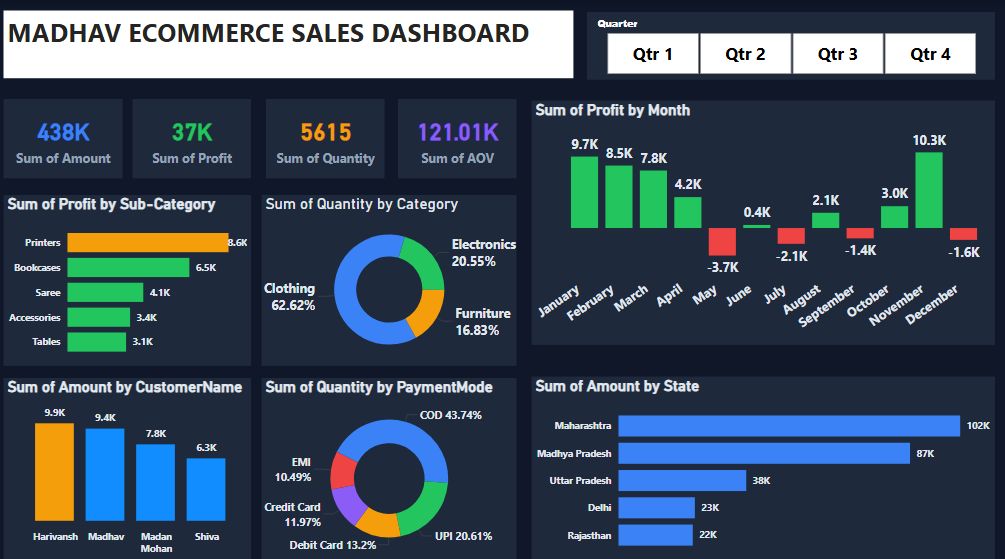

What the dashboard file says about the page in this screenshot:
{"tool":"powerbi","page":{"name":"Page 1","canvas":[1280,720],"ordinal":0},"visuals":[{"type":"textbox","box":[9.4,13.2,718.1,85],"z":0},{"type":"columnChart","fields":{"Category":["Orders.Order Date.Variation.Date Hierarchy.Month"],"Y":["Sum(Details.Profit)"]},"box":[674.7,126.6,583.9,308],"z":1000},{"type":"card","fields":{"Values":["Sum(Details.Amount)"]},"box":[9.4,124.7,150,100],"z":2000},{"type":"card","fields":{"Values":["Sum(Details.Profit)"]},"box":[172,124.7,149.3,100.2],"z":3000},{"type":"card","fields":{"Values":["Sum(Details.Quantity)"]},"box":[340.2,124.7,149.3,100.2],"z":4000},{"type":"card","fields":{"Values":["Sum(Details.AOV)"]},"box":[506.5,124.7,149.3,100.2],"z":5000},{"type":"clusteredBarChart","fields":{"Y":["Sum(Details.Amount)"],"Category":["Orders.State"]},"box":[674.7,474.3,583.9,232.4],"z":6000},{"type":"donutChart","fields":{"Y":["Sum(Details.Quantity)"],"Category":["Details.Category"]},"box":[334.5,245.7,321.3,215.4],"z":7000},{"type":"donutChart","fields":{"Y":["Sum(Details.Quantity)"],"Category":["Details.PaymentMode"]},"box":[334.5,476.2,321.3,230.6],"z":8000},{"type":"columnChart","fields":{"Y":["Sum(Details.Amount)"],"Category":["Orders.CustomerName"]},"box":[9.4,476.2,311.8,230.6],"z":9000},{"type":"clusteredBarChart","fields":{"Y":["Sum(Details.Profit)"],"Category":["Details.Sub-Category"]},"box":[9.4,245.7,311.8,215.4],"z":10000},{"type":"slicer","fields":{"Values":["Orders.Order Date.Variation.Date Hierarchy.Quarter"]},"box":[744.6,15.1,514,85],"z":11000}]}

Visuals, with their boxes in screenshot pixels (x1, y1, x2, y2), scaled from the page's 1280x720 canvas onto the 1005x559 screenshot:
textbox: locate(7, 10, 571, 76)
columnChart - Orders.Order Date.Variation.Date Hierarchy.Month x Sum(Details.Profit): locate(530, 98, 988, 337)
card - Sum(Details.Amount): locate(7, 97, 125, 174)
card - Sum(Details.Profit): locate(135, 97, 252, 175)
card - Sum(Details.Quantity): locate(267, 97, 384, 175)
card - Sum(Details.AOV): locate(398, 97, 515, 175)
clusteredBarChart - Sum(Details.Amount) x Orders.State: locate(530, 368, 988, 549)
donutChart - Sum(Details.Quantity) x Details.Category: locate(263, 191, 515, 358)
donutChart - Sum(Details.Quantity) x Details.PaymentMode: locate(263, 370, 515, 549)
columnChart - Sum(Details.Amount) x Orders.CustomerName: locate(7, 370, 252, 549)
clusteredBarChart - Sum(Details.Profit) x Details.Sub-Category: locate(7, 191, 252, 358)
slicer - Orders.Order Date.Variation.Date Hierarchy.Quarter: locate(585, 12, 988, 78)
